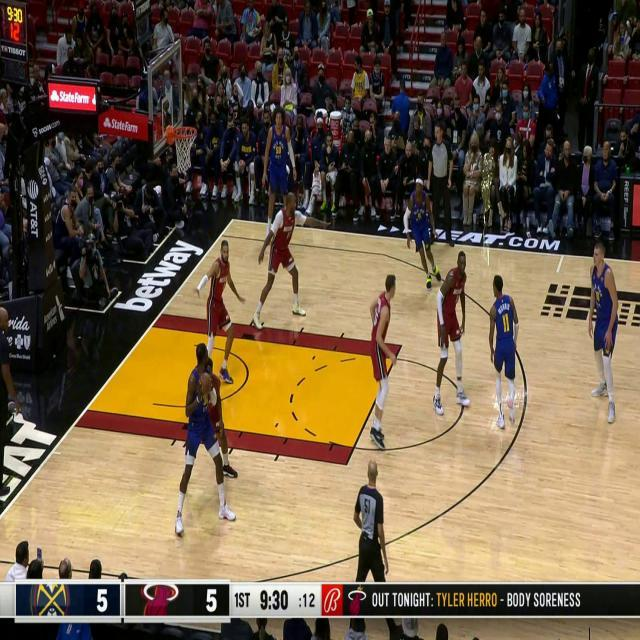rim: (200, 374, 212, 396)
